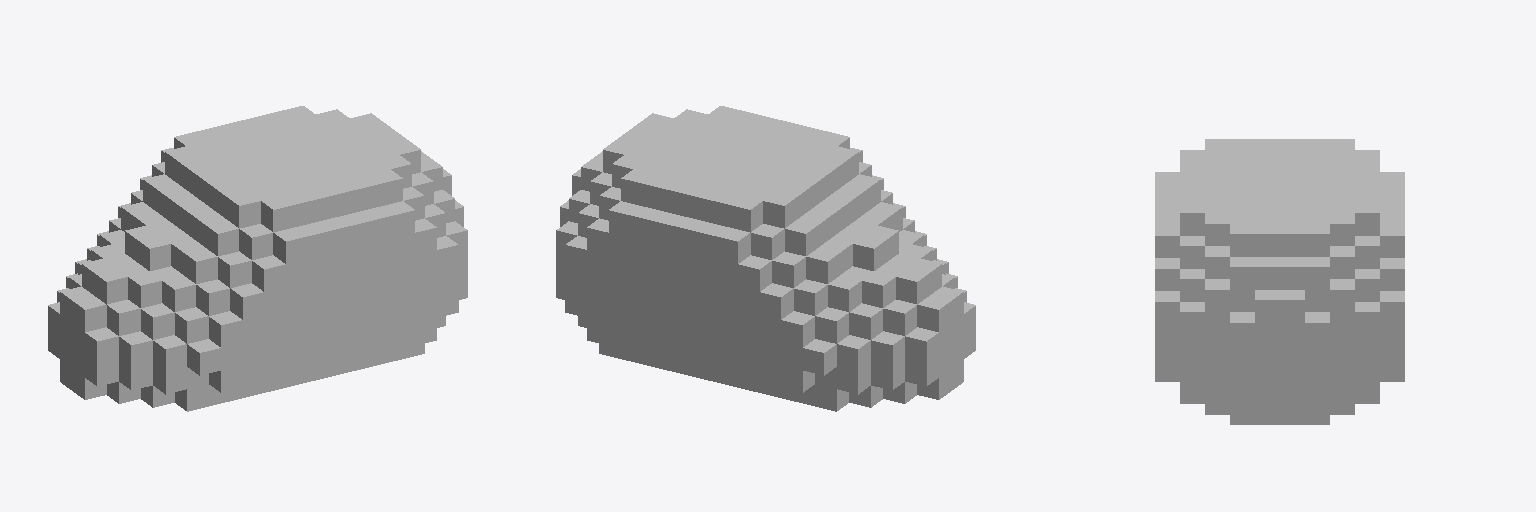
File: rocks2.obj
The picture shows the model from 3 angles: view 1: azimuth 30°, elevation 25°; view 2: azimuth 150°, elevation 25°; view 3: azimuth 270°, elevation 25°; orthographic projection.
Visible parts, largest first — view 1: rocks2; view 2: rocks2; view 3: rocks2.
Part boxes in pixels (bbox=[...]): rocks2: bbox=[48, 106, 467, 411]; rocks2: bbox=[556, 106, 975, 411]; rocks2: bbox=[1155, 139, 1404, 424].
Bounding box in the file's own units: 17 × 8 × 10.